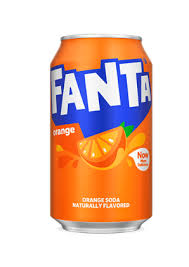can: (48, 33, 155, 234)
